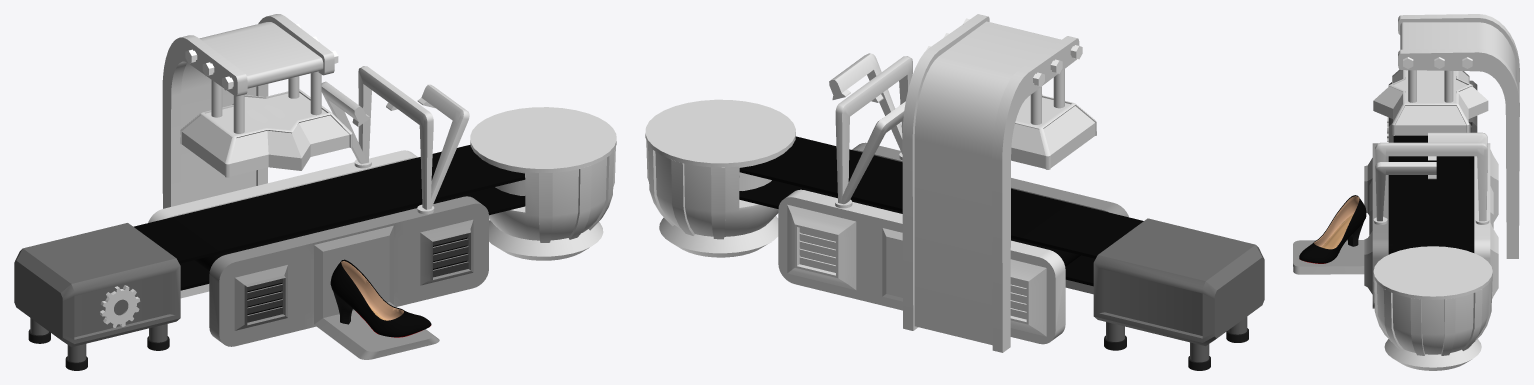
File: ayakkabmak6.fbx
The picture shows the model from 3 angles, left to right: view 1: azimuth 30°, elevation 25°; view 2: azimuth 150°, elevation 25°; view 3: azimuth 270°, elevation 25°; orthographic projection. The views are drawn at different scales.
Visible parts, largest first — view 1: Cube.078, Circle.167, Sphere.001, Plane.014, Circle.196, Cylinder.199, curve_object1.018, Cube.082, Cube.080, Cube.083, Cube.081, Gear.068 (+4 smaller); view 2: Plane.014, Sphere.001, Cube.080, Circle.196, Circle.167, Cylinder.199, Cube.082, Cube.078, Cube.083, Cube.081, Circle.168, Cylinder.213 (+1 smaller); view 3: Sphere.001, Plane.014, Circle.167, Cylinder.199, Cube.078, Cube.082, Cube.080, curve_object1.018, Cube.083, Circle.168, Cube.081, Circle.196 (+2 smaller).
Part boxes in pixels (x1,y1,x2,y2): Cube.078: (209, 196, 488, 359); Circle.167: (133, 144, 525, 290); Sphere.001: (470, 107, 616, 260); Plane.014: (162, 14, 334, 208); Circle.196: (14, 223, 180, 347); Cylinder.199: (180, 89, 352, 177); curve_object1.018: (330, 259, 431, 337); Cube.082: (358, 66, 433, 209); Cube.080: (148, 150, 417, 298); Cube.083: (417, 84, 469, 208); Cube.081: (321, 81, 370, 164); Gear.068: (100, 285, 140, 327); Plane.014: (902, 14, 1079, 352); Sphere.001: (645, 99, 795, 257); Cube.080: (778, 189, 1065, 344); Circle.196: (1093, 218, 1264, 346); Circle.167: (739, 136, 1143, 286); Cylinder.199: (1011, 94, 1096, 169); Cube.082: (835, 56, 912, 203); Cube.078: (852, 142, 1128, 294); Cube.083: (829, 53, 902, 154); Cube.081: (841, 101, 905, 204); Circle.168: (799, 187, 1080, 266); Cylinder.213: (1188, 342, 1210, 370); Sphere.001: (1373, 246, 1492, 370); Plane.014: (1398, 14, 1519, 258); Circle.167: (1393, 135, 1469, 252); Cylinder.199: (1373, 69, 1488, 135); Cube.078: (1293, 143, 1388, 308); Cube.082: (1375, 142, 1487, 221); Cube.080: (1474, 143, 1498, 298); curve_object1.018: (1299, 195, 1366, 263); Cube.083: (1375, 162, 1436, 221); Circle.168: (1388, 156, 1474, 254); Cube.081: (1428, 132, 1487, 146); Circle.196: (1388, 80, 1477, 142).
Size of the model in its own units: 1412 by 618 by 601.
